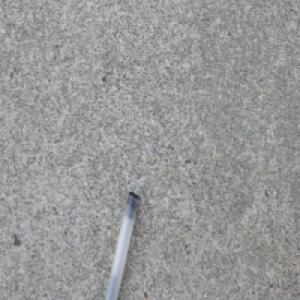Pen: (101, 189, 139, 300)
